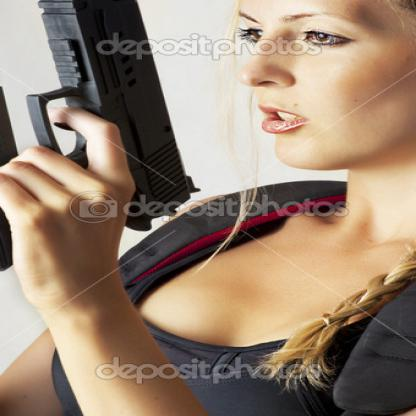gun: (0, 0, 212, 279)
